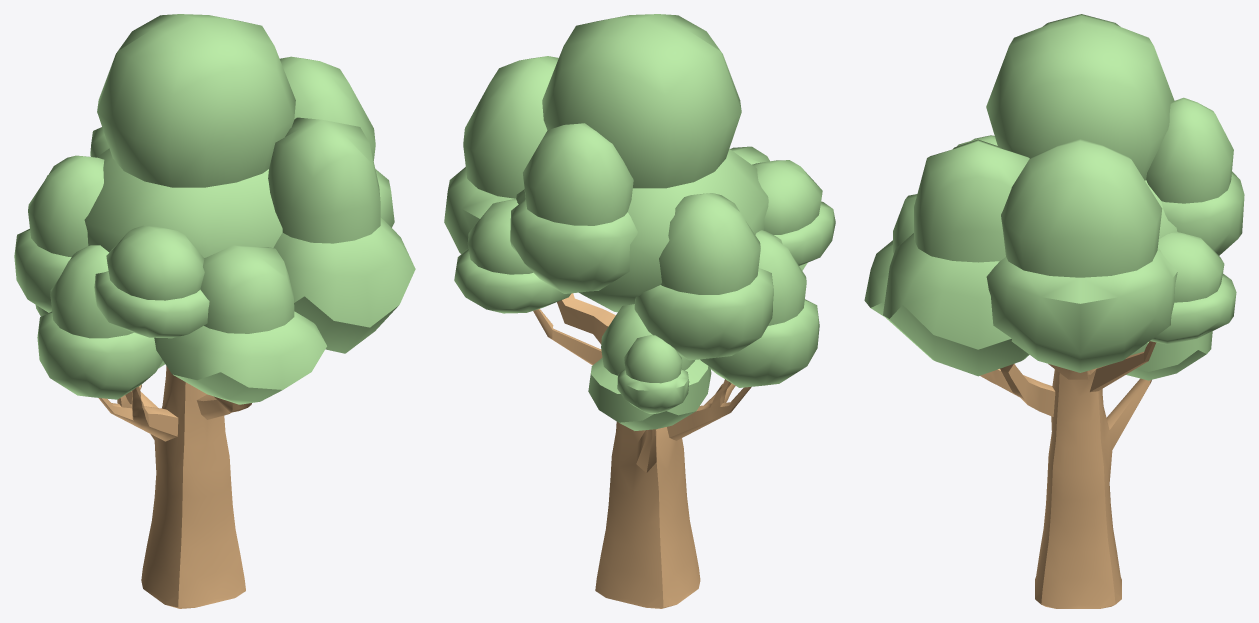
File: tree1.fbx
3 views of the same model, side by side, from view 1: azimuth 30°, elevation 25°; view 2: azimuth 150°, elevation 25°; view 3: azimuth 270°, elevation 25° (orthographic).
Parts seen in each view (by area): view 1: Cube.001; view 2: Cube.001; view 3: Cube.001.
Boxes of the visible parts, box(x1,y1,x2,y2) form: Cube.001: box(14, 14, 415, 608); Cube.001: box(444, 14, 835, 608); Cube.001: box(864, 14, 1244, 608).
Size of the model in its own units: 130 by 210 by 127.
